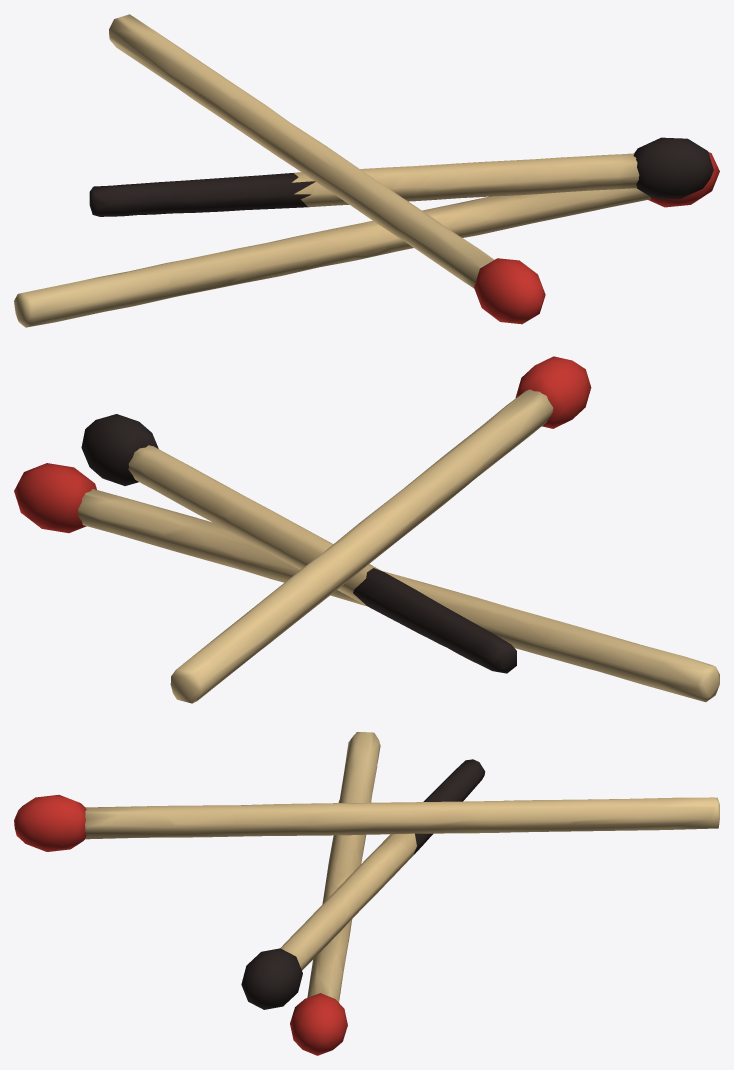
The model's file is ember_gc_matchsticks.glb.
The picture shows the model from 3 angles, top to bottom: view 1: azimuth 30°, elevation 25°; view 2: azimuth 150°, elevation 25°; view 3: azimuth 270°, elevation 25°; orthographic projection. The views are drawn at different scales.
Parts seen in each view (by area): view 1: ember_gc_matchsticks; view 2: ember_gc_matchsticks; view 3: ember_gc_matchsticks.
Part boxes in pixels (x1=…): ember_gc_matchsticks: x1=14, y1=14, x2=719, y2=327; ember_gc_matchsticks: x1=14, y1=356, x2=719, y2=703; ember_gc_matchsticks: x1=14, y1=732, x2=719, y2=1055.
Size of the model in its own units: 14.54 by 2.6 by 14.55.
